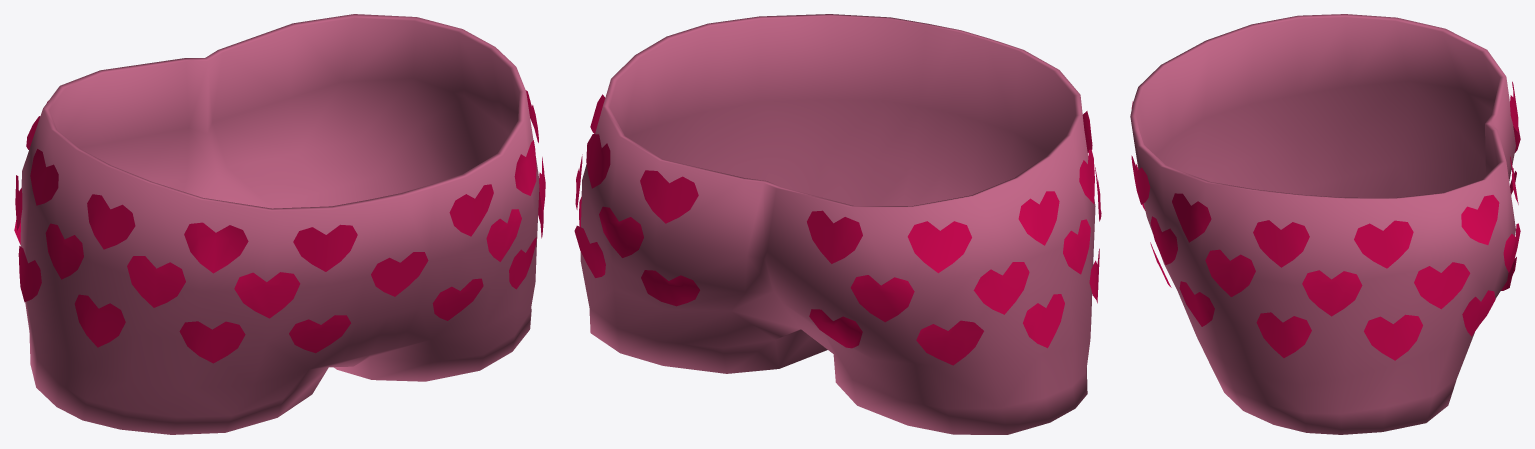
Rendered from CUNewUndies.fbx.
3 views of the same model, side by side, from view 1: azimuth 30°, elevation 25°; view 2: azimuth 150°, elevation 25°; view 3: azimuth 270°, elevation 25° (orthographic). The views are drawn at different scales.
Parts seen in each view (by area): view 1: Undies, Hearts; view 2: Undies, Hearts; view 3: Undies, Hearts.
Part boxes in pixels (x1,y1,x2,y2): Undies: (20, 14, 539, 434); Hearts: (14, 90, 545, 363); Undies: (580, 14, 1095, 434); Hearts: (574, 94, 1101, 365); Undies: (1130, 14, 1515, 434); Hearts: (1131, 81, 1520, 360).
Bounding box in the file's own units: 165 × 86.19 × 132.
